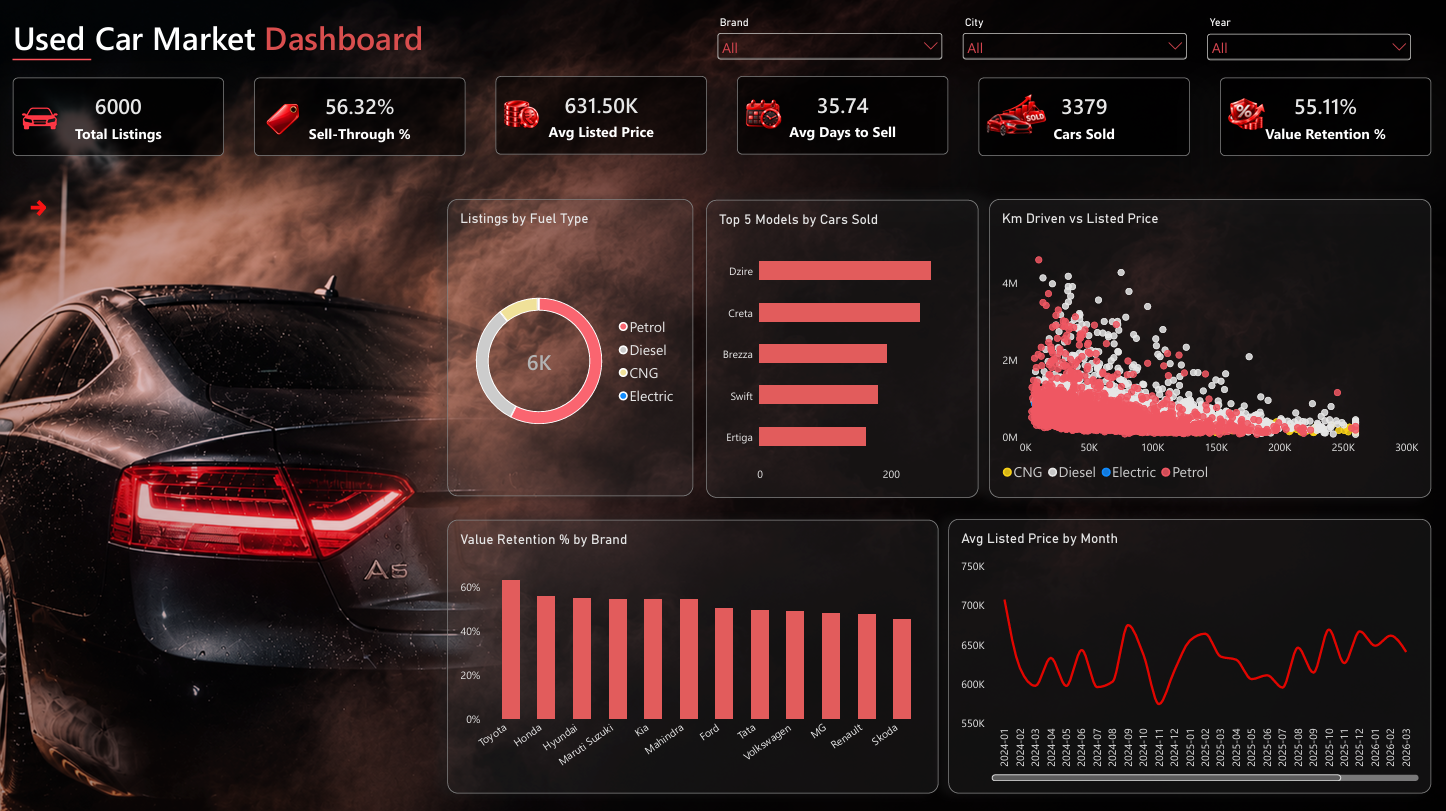

Layout of this report page (visuals, bound fields, positions):
{"tool":"powerbi","page":{"name":"Dashboard","canvas":[1920,1080],"ordinal":0},"visuals":[{"type":"card","fields":{"Values":["Fact_Listings.Total Listings"]},"box":[18.4,104.1,279.2,103.9],"z":0},{"type":"card","fields":{"Values":["Fact_Listings.Sell-Through %"]},"box":[338.4,104.1,279.2,103.9],"z":1000},{"type":"card","fields":{"Values":["Fact_Listings.Avg Listed Price"]},"box":[658.4,102,279.2,103.9],"z":2000},{"type":"card","fields":{"Values":["Fact_Listings.Avg Days to Sell"]},"box":[978.4,102,279.2,103.9],"z":3000},{"type":"card","fields":{"Values":["Fact_Listings.Cars Sold"]},"box":[1298.4,104.1,279.2,103.9],"z":4000},{"type":"card","fields":{"Values":["Fact_Listings.Value Retention %"]},"box":[1618.4,104.1,279.2,103.9],"z":5000},{"type":"lineChart","title":"Avg Listed Price by Month","fields":{"Category":["Fact_Listings.month"],"Y":["Fact_Listings.Avg Listed Price"]},"box":[1257.7,689.5,640.6,363.7],"z":6000},{"type":"scatterChart","title":"Km Driven vs Listed Price","fields":{"Series":["Dim_Car.Fuel_Type"],"X":["Fact_Listings.Km_Driven"],"Y":["Fact_Listings.Listed_Price_INR"]},"box":[1312.2,265.3,585.7,395.9],"z":7000},{"type":"clusteredColumnChart","title":"Value Retention % by Brand","fields":{"Category":["Dim_Car.Brand"],"Y":["Fact_Listings.Value Retention %"]},"box":[593.9,689.8,651,363.3],"z":8000},{"type":"slicer","fields":{"Values":["Fact_Listings.Year"]},"box":[1595.9,23.5,279.6,65.3],"z":9000},{"type":"slicer","fields":{"Values":["Dim_City.City"]},"box":[1272.4,22.4,306.1,67.3],"z":10000},{"type":"slicer","fields":{"Values":["Dim_Car.Brand"]},"box":[946.9,22.4,308.2,73.5],"z":11000},{"type":"donutChart","title":"Listings by Fuel Type","fields":{"Category":["Dim_Car.Fuel_Type"],"Y":["Fact_Listings.Total Listings"]},"box":[593.9,265.3,326.5,393.9],"z":12000},{"type":"barChart","title":"Top 5 Models by Cars Sold","fields":{"Category":["Dim_Car.Model"],"Y":["Fact_Listings.Cars Sold"]},"box":[937.4,266,360.1,394.5],"z":13000},{"type":"textbox","box":[11,690,670,390],"z":14000},{"type":"textbox","box":[18.4,22.4,661.2,81.6],"z":15000},{"type":"shape","box":[18.2,21.8,103.6,116.4],"z":16000},{"type":"image","box":[18.1,110.4,72.4,97.7],"z":17000},{"type":"image","box":[338.4,108.6,74.2,99.5],"z":18000},{"type":"image","box":[658.7,126.7,65.1,52.5],"z":19000},{"type":"image","box":[979,126.7,67,52.5],"z":20000},{"type":"image","box":[1297.5,115.8,92.3,79.6],"z":21000},{"type":"image","box":[1617.8,114,70.6,77.8],"z":22000},{"type":"actionButton","box":[10.9,233.4,79.6,86.9],"z":23000}]}

Visuals, with their boxes in screenshot pixels (x1, y1, x2, y2), scaled from the page's 1920x1080 canvas onto the 1446x811 screenshot:
card - Fact_Listings.Total Listings: box(14, 78, 224, 156)
card - Fact_Listings.Sell-Through %: box(255, 78, 465, 156)
card - Fact_Listings.Avg Listed Price: box(496, 77, 706, 155)
card - Fact_Listings.Avg Days to Sell: box(737, 77, 947, 155)
card - Fact_Listings.Cars Sold: box(978, 78, 1188, 156)
card - Fact_Listings.Value Retention %: box(1219, 78, 1429, 156)
"Avg Listed Price by Month" lineChart: box(947, 518, 1430, 791)
"Km Driven vs Listed Price" scatterChart: box(988, 199, 1429, 497)
"Value Retention % by Brand" clusteredColumnChart: box(447, 518, 938, 791)
slicer - Fact_Listings.Year: box(1202, 18, 1412, 67)
slicer - Dim_City.City: box(958, 17, 1189, 67)
slicer - Dim_Car.Brand: box(713, 17, 945, 72)
"Listings by Fuel Type" donutChart: box(447, 199, 693, 495)
"Top 5 Models by Cars Sold" barChart: box(706, 200, 977, 496)
textbox: box(8, 518, 513, 810)
textbox: box(14, 17, 512, 78)
shape: box(14, 16, 92, 104)
image: box(14, 83, 68, 156)
image: box(255, 82, 311, 156)
image: box(496, 95, 545, 135)
image: box(737, 95, 788, 135)
image: box(977, 87, 1047, 147)
image: box(1218, 86, 1272, 144)
actionButton: box(8, 175, 68, 241)
